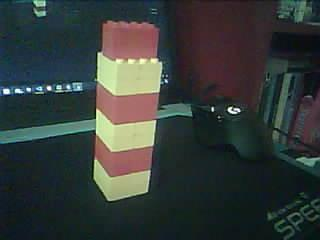lego: (93, 20, 163, 201)
